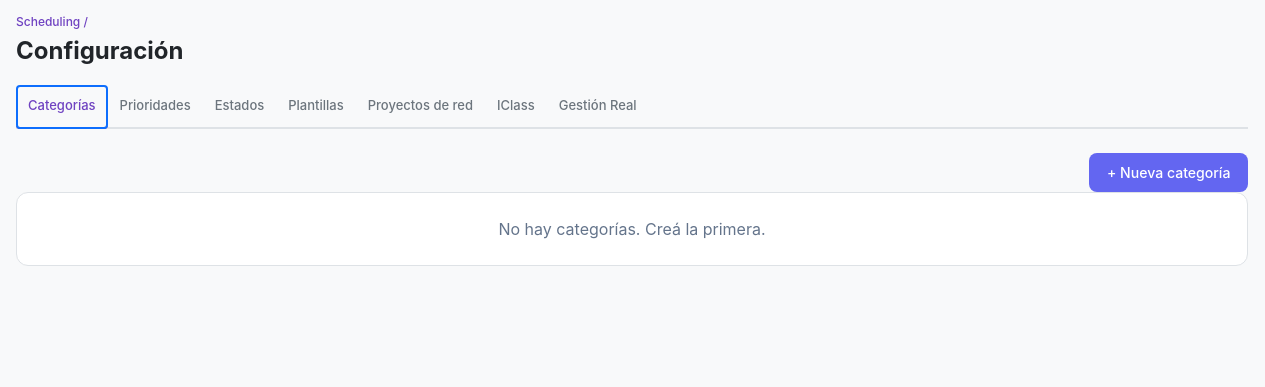
Scenario: SchedulingSettingsPage › switches to the Plantillas tab and shows its body
Step 1. Click the tab "Plantillas" → (316, 107), box [276,85,356,129]
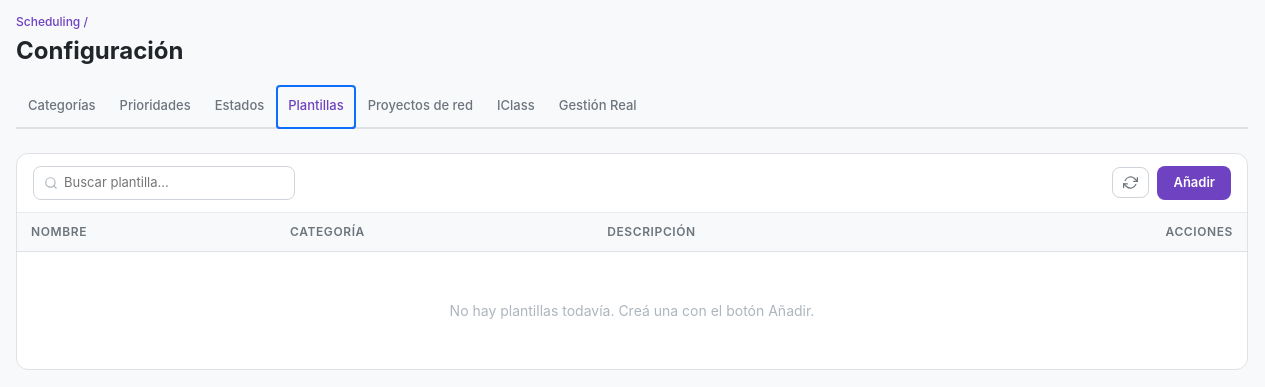
Expected: the field with placeholder "Buscar plantilla..." is shown, [64,173,284,192]
